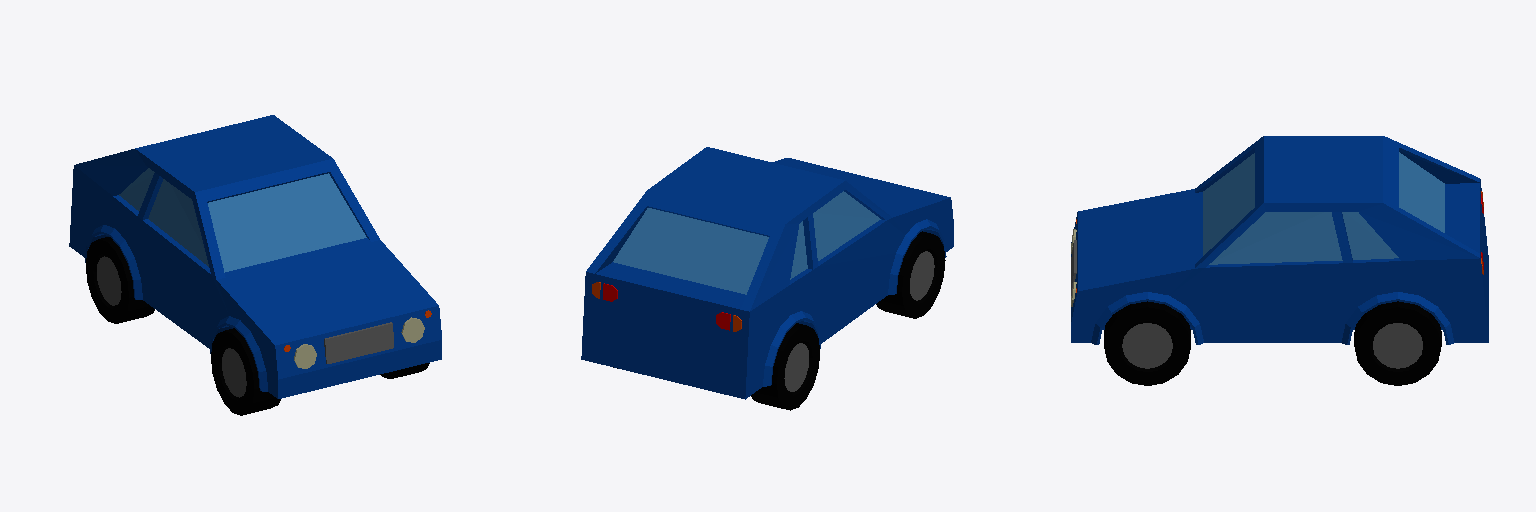
File: car-hatchback-blue.obj
3 renders of one model, left to right at view 1: azimuth 30°, elevation 25°; view 2: azimuth 150°, elevation 25°; view 3: azimuth 270°, elevation 25°, orthographic.
Parts seen in each view (by area): view 1: car-hatchback-blue_Cube.031; view 2: car-hatchback-blue_Cube.031; view 3: car-hatchback-blue_Cube.031.
Part boxes in pixels (x1,y1,x2,y2): car-hatchback-blue_Cube.031: (69, 115, 441, 415); car-hatchback-blue_Cube.031: (581, 147, 953, 410); car-hatchback-blue_Cube.031: (1071, 136, 1488, 385).
Bounding box in the file's own units: 0.8924 × 0.8235 × 1.81.